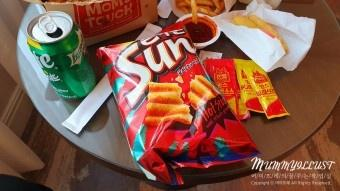snack: (95, 19, 260, 187)
